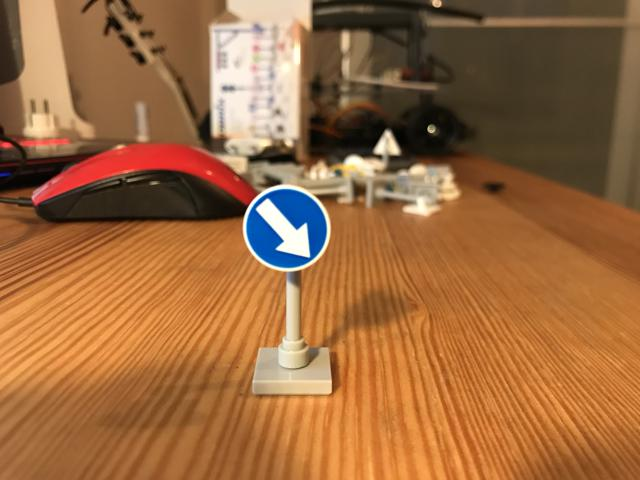rechts halten: (242, 186, 331, 271)
